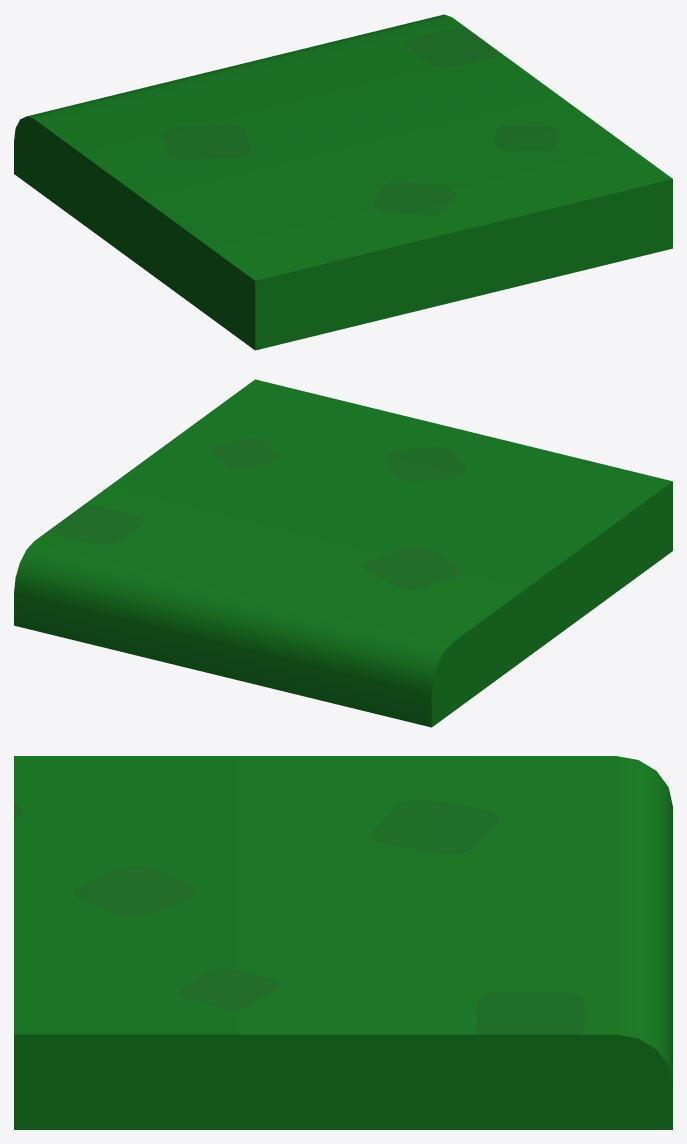
File: GF_Edge_1_3.glb
3 views of the same model, one above another, from view 1: azimuth 30°, elevation 25°; view 2: azimuth 150°, elevation 25°; view 3: azimuth 270°, elevation 25° (orthographic). The views are drawn at different scales.
Visible parts, largest first — view 1: GF_Edge_1_3; view 2: GF_Edge_1_3; view 3: GF_Edge_1_3.
Part boxes in pixels (left/top/right/bottom): GF_Edge_1_3: left=14, top=14, right=672, bottom=350; GF_Edge_1_3: left=14, top=379, right=672, bottom=727; GF_Edge_1_3: left=14, top=756, right=672, bottom=1129.
Size of the model in its own units: 2 by 0.3187 by 2.
Materials: 1 (1 with a texture image).
